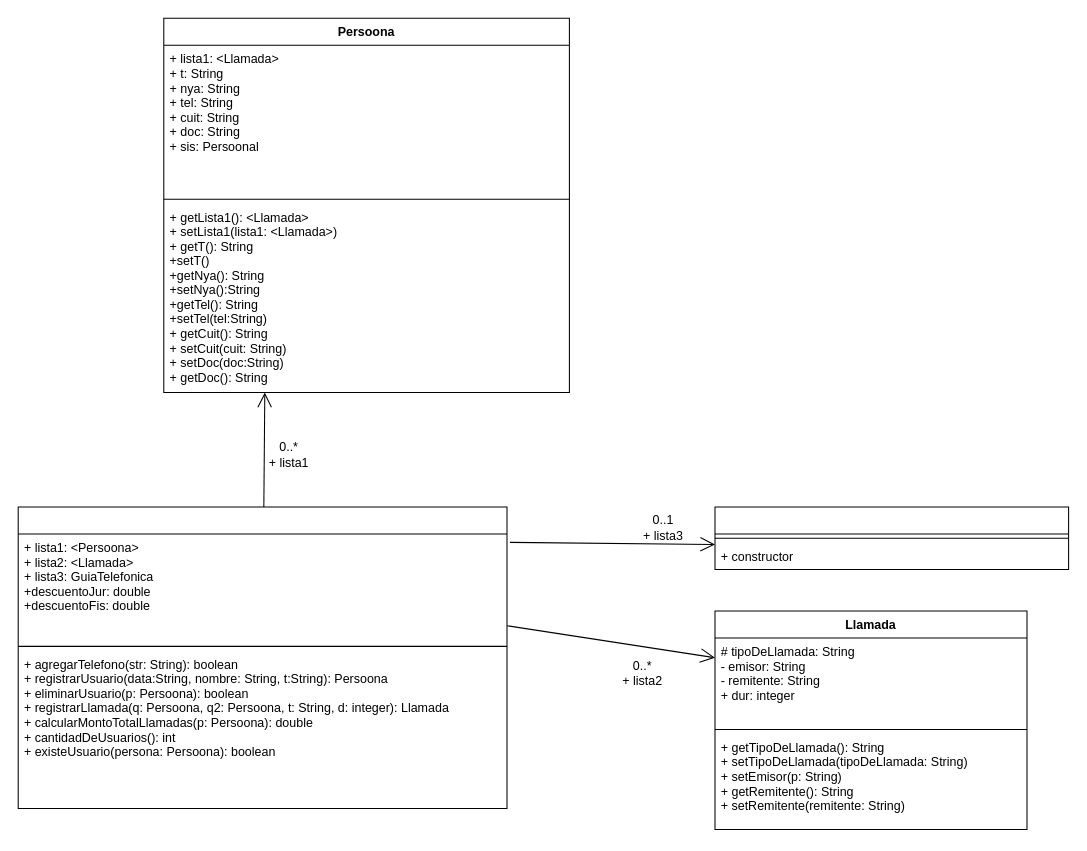
This 1087x851 diagram has some shape labels left out. Each missing label, with the box of its shape:
GuiaTelefonica: (714, 506, 1069, 569)
Persoonal: (17, 506, 507, 809)
